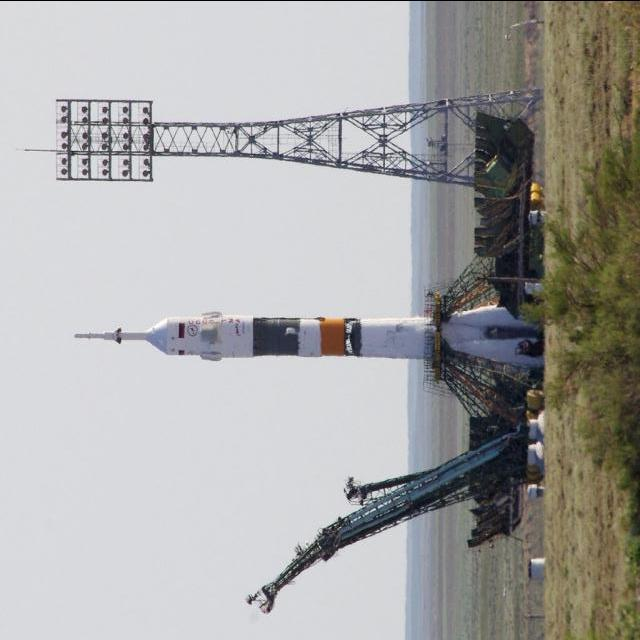missile: (74, 308, 440, 368)
